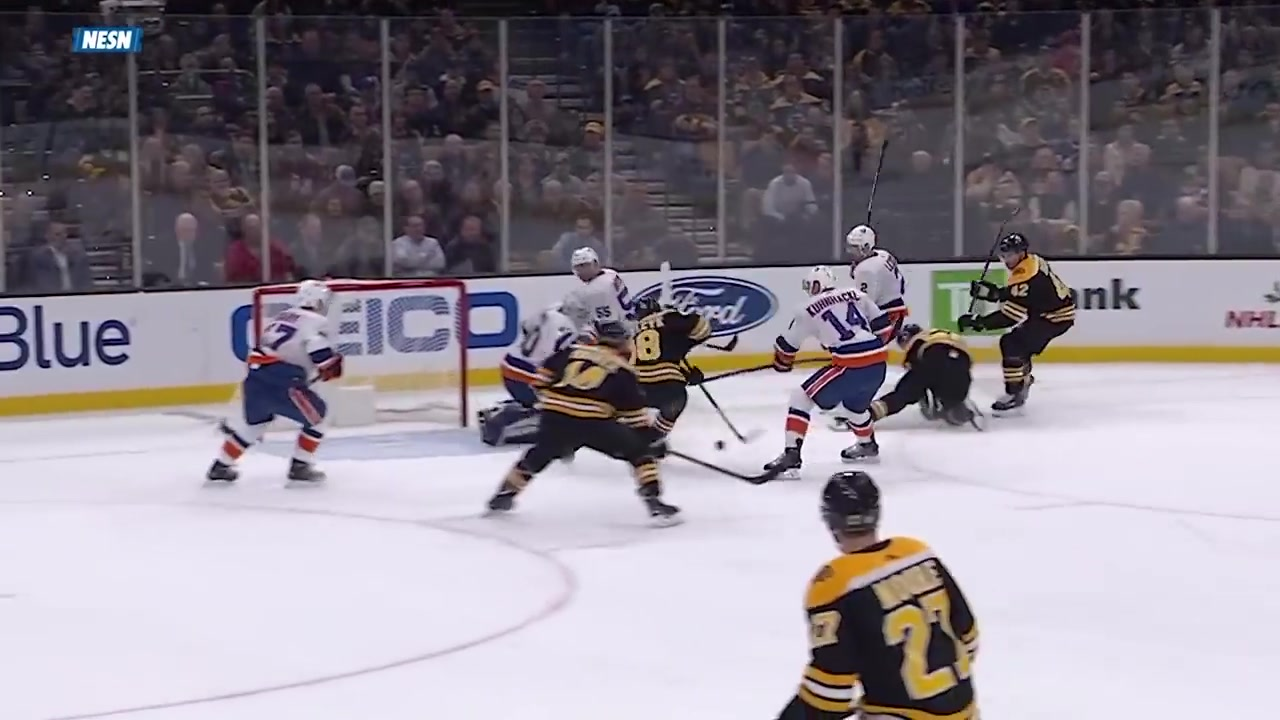Geico: (228, 277, 528, 356)
